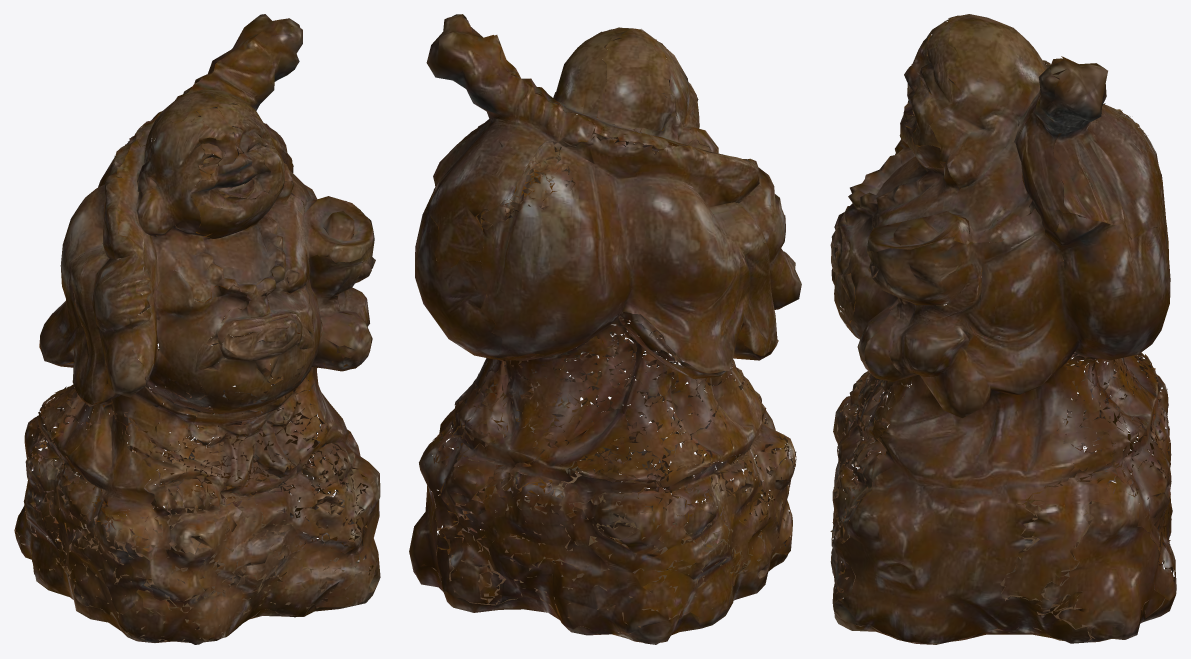
The picture shows the model from 3 angles, left to right: view 1: azimuth 30°, elevation 25°; view 2: azimuth 150°, elevation 25°; view 3: azimuth 270°, elevation 25°; orthographic projection. The views are drawn at different scales.
Parts seen in each view (by area): view 1: statue-026; view 2: statue-026; view 3: statue-026.
Boxes of the visible parts, bbox=[...] form: statue-026: bbox=[14, 14, 380, 644]; statue-026: bbox=[409, 14, 801, 644]; statue-026: bbox=[830, 14, 1176, 644].
Bounding box in the file's own units: 0.5658 × 1 × 0.5484.
1 material, 1 textured.
